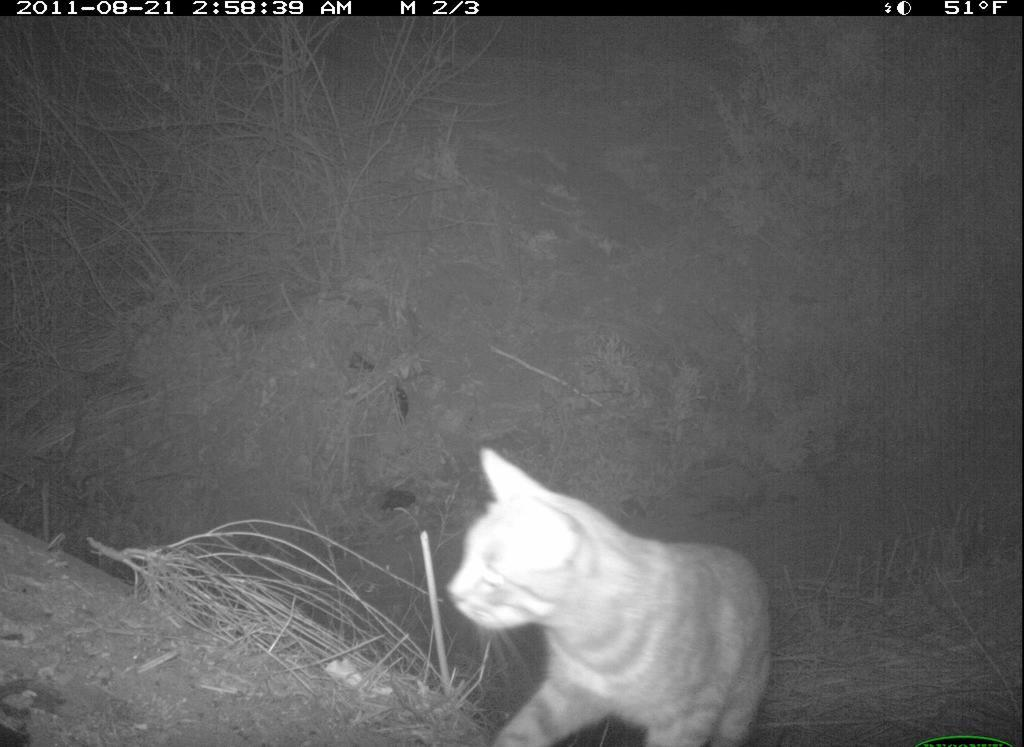cat: (445, 446, 776, 747)
